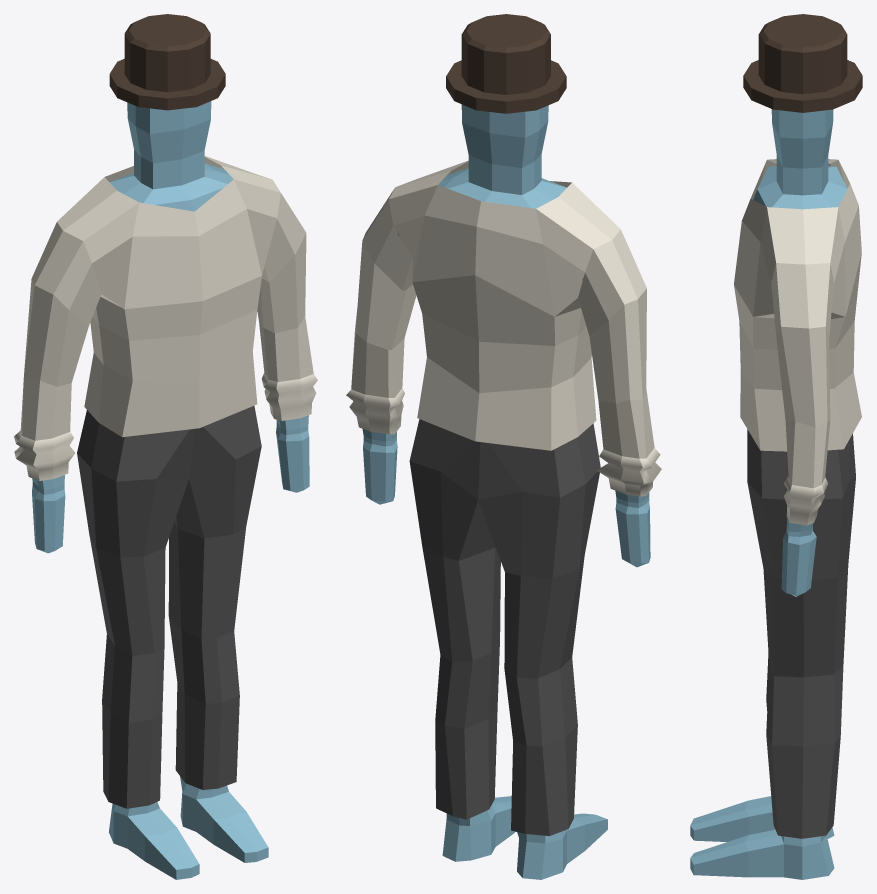
The model's file is HatMan001.fbx.
3 views of the same model, side by side, from view 1: azimuth 30°, elevation 25°; view 2: azimuth 150°, elevation 25°; view 3: azimuth 270°, elevation 25° (orthographic). The views are drawn at different scales.
Visible parts, largest first — view 1: pCube3, polySurface2, polySurface1, pCylinder1; view 2: pCube3, polySurface2, polySurface1, pCylinder1; view 3: pCube3, polySurface2, polySurface1, pCylinder1.
Part boxes in pixels (x1,y1,x2,y2): pCube3: (14,156,317,480); polySurface2: (77,406,261,808); polySurface1: (32,101,309,879); pCylinder1: (109,14,225,110); pCube3: (346,160,661,496); polySurface2: (409,419,600,835); polySurface1: (362,104,650,879); pCylinder1: (446,14,566,113); pCube3: (734,159,861,525); polySurface2: (747,429,855,838); polySurface1: (690,109,847,879); pCylinder1: (743,14,862,112).
Bounding box in the file's own units: 2.24 × 5.81 × 1.11.
